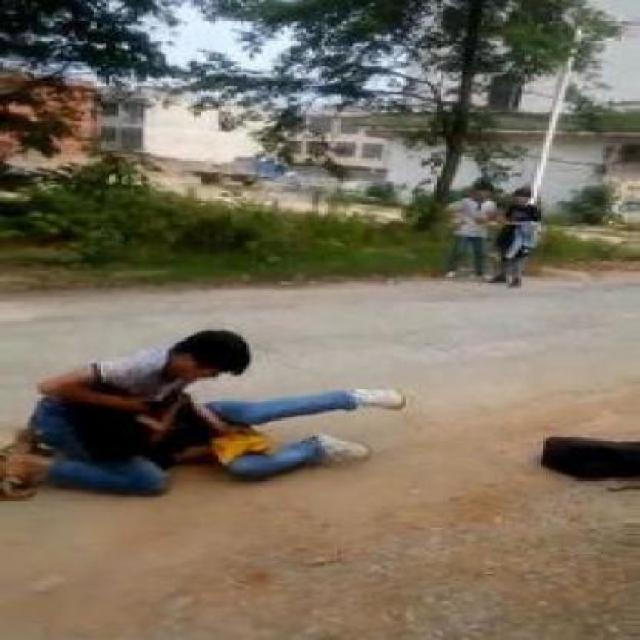fall: (157, 364, 406, 488)
